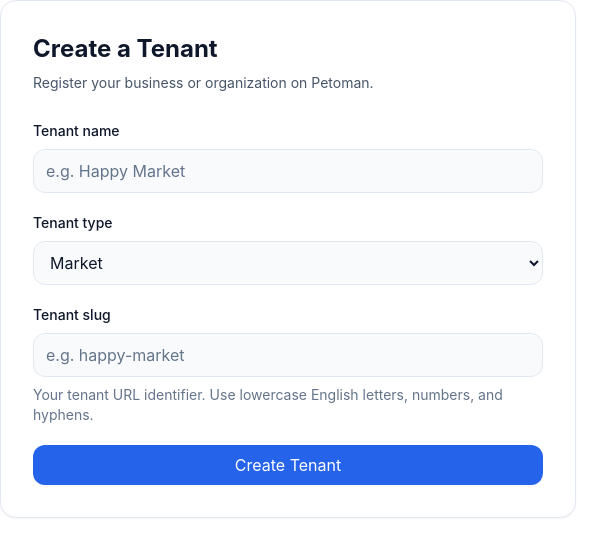
CreateTenantForm › generates slug from tenant name
The width and height of the screenshot is (593, 535).
In the field labelled "Tenant name": [288, 171] box [33,149,543,193], type "My New Tenant"
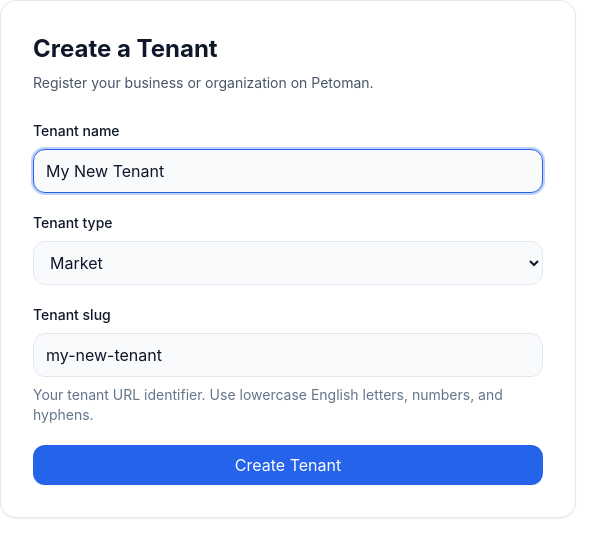
expect the field labelled "Tenant slug" holds "my-new-tenant": met, box [33,333,543,377]
